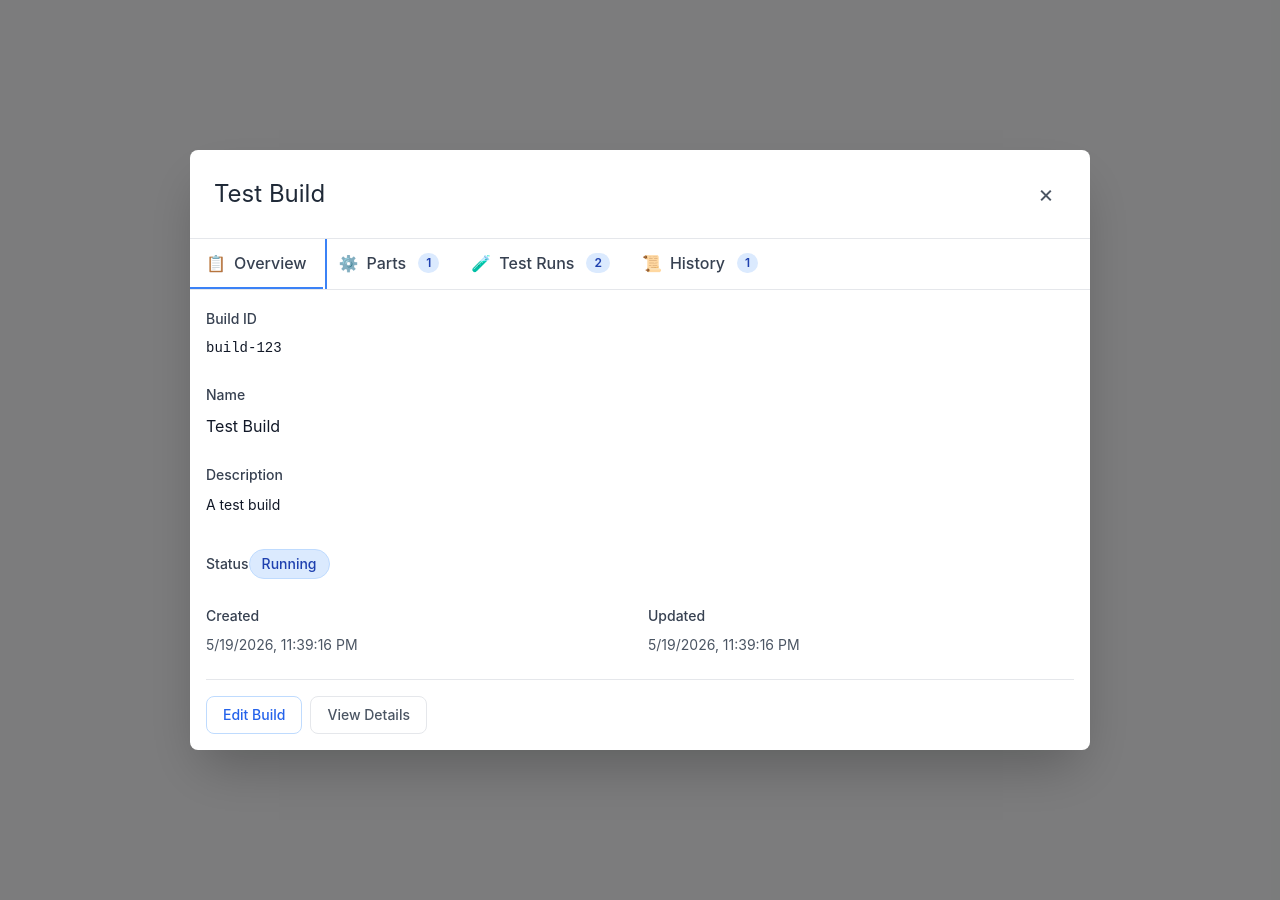
Test: BuildDetailModal - Tabbed Structure › History Tab Data Display › should display events when History tab is active
Click the tab "📜 History 1". click: {"x": 700, "y": 264}
box: [626, 239, 774, 289]
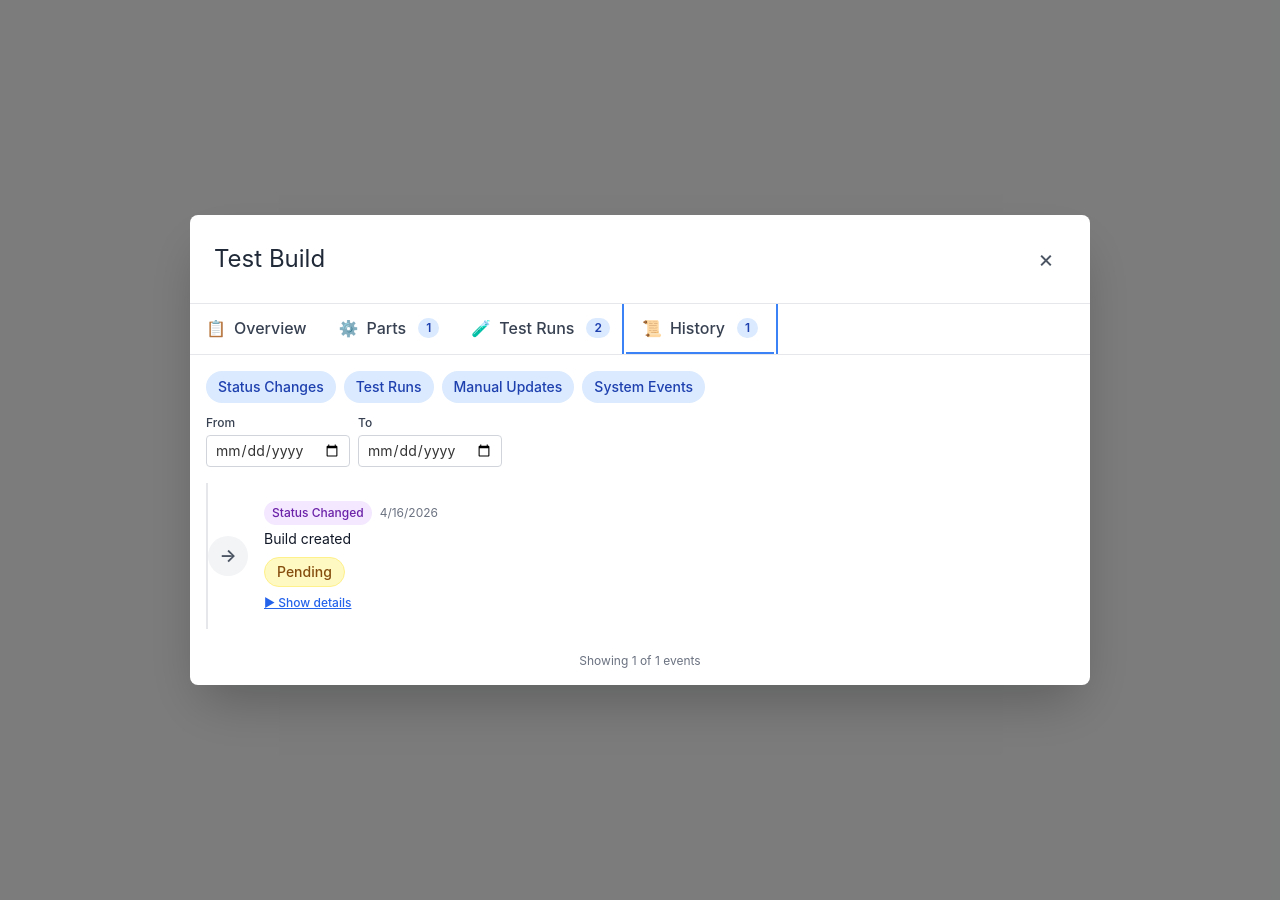
Now the panel is shown, box [190, 355, 1090, 685]
